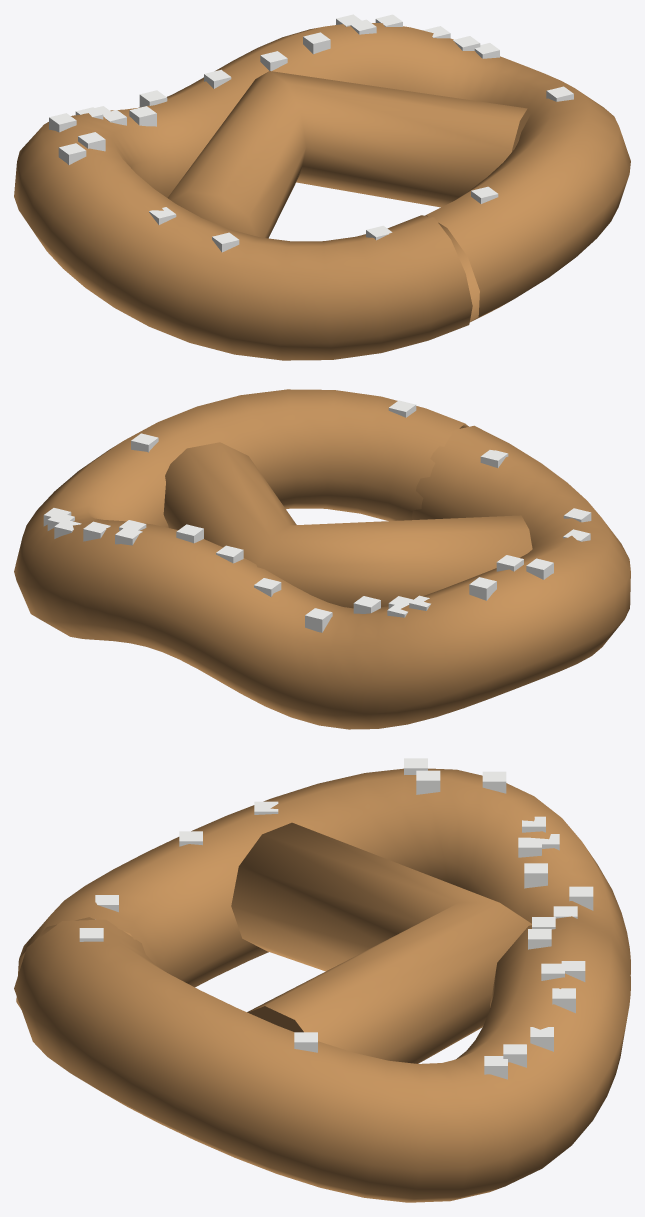
Rendered from shell.glb.
3 renders of one model, top to bottom at view 1: azimuth 30°, elevation 25°; view 2: azimuth 150°, elevation 25°; view 3: azimuth 270°, elevation 25°, orthographic. The views are drawn at different scales.
Visible parts, largest first — view 1: Shell; view 2: Shell; view 3: Shell.
Boxes of the visible parts, x1=… form: Shell: x1=14, y1=14, x2=630, y2=360; Shell: x1=14, y1=389, x2=630, y2=729; Shell: x1=14, y1=758, x2=630, y2=1202.
Bounding box in the file's own units: 1.57 × 0.4099 × 1.3.
